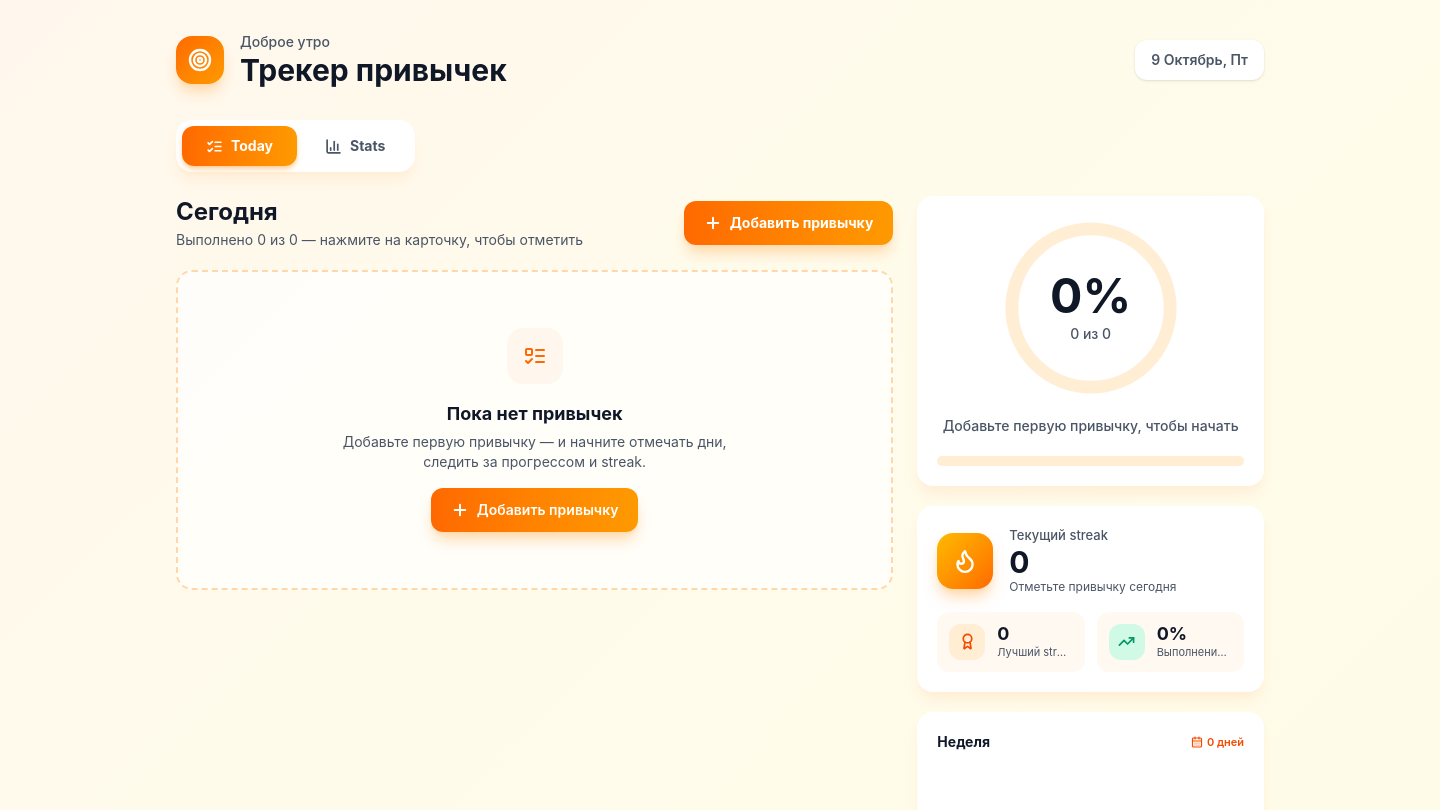
Test case: Today — добавление привычки › можно добавить привычку из пустого состояния
Click the button "Добавить привычку" next to "— нажмите на карточку, чтобы отметить" at (788,223), box [684,201,893,245]
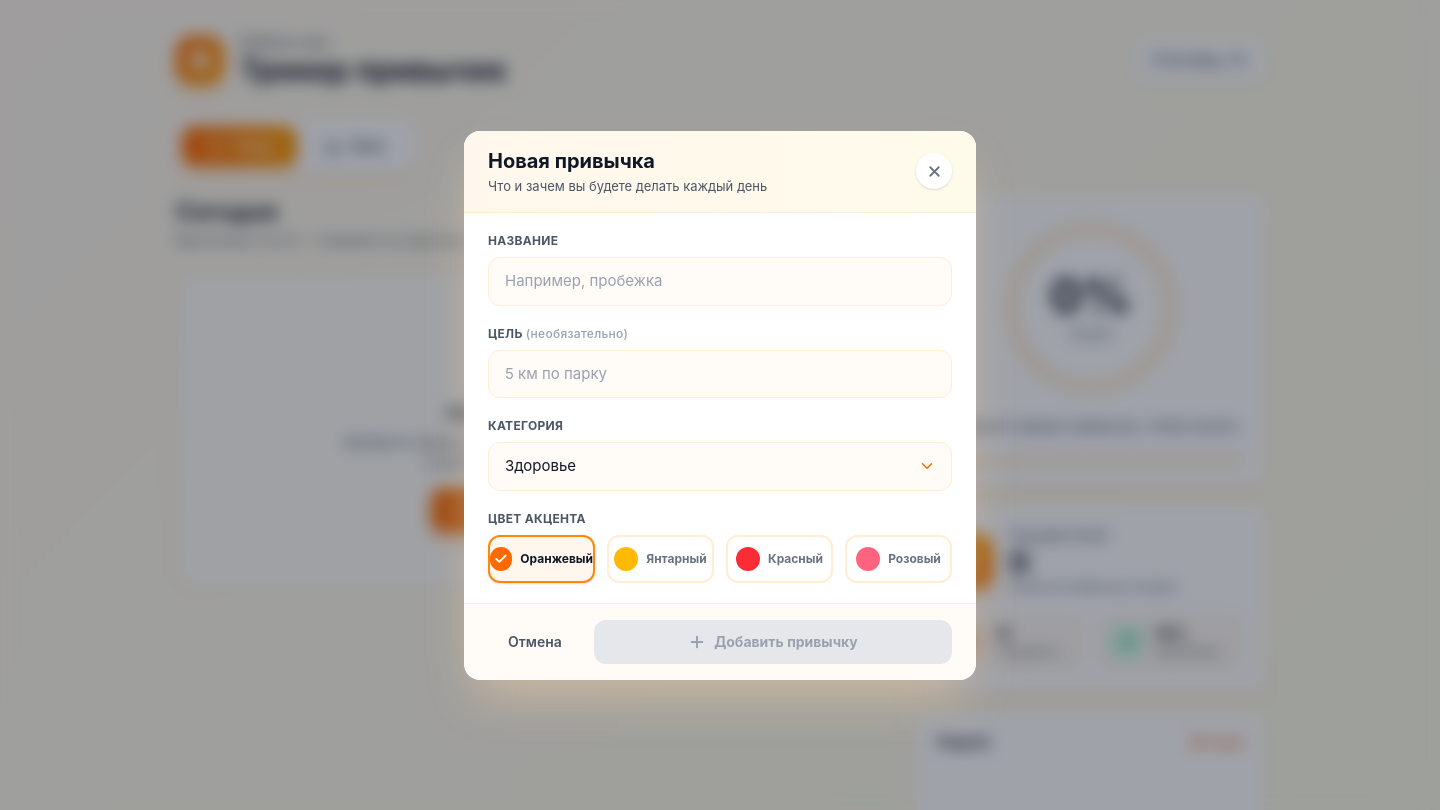
Type "Чтение" into the field with placeholder "Например, пробежка" at (720,281), box [488,257,952,306]
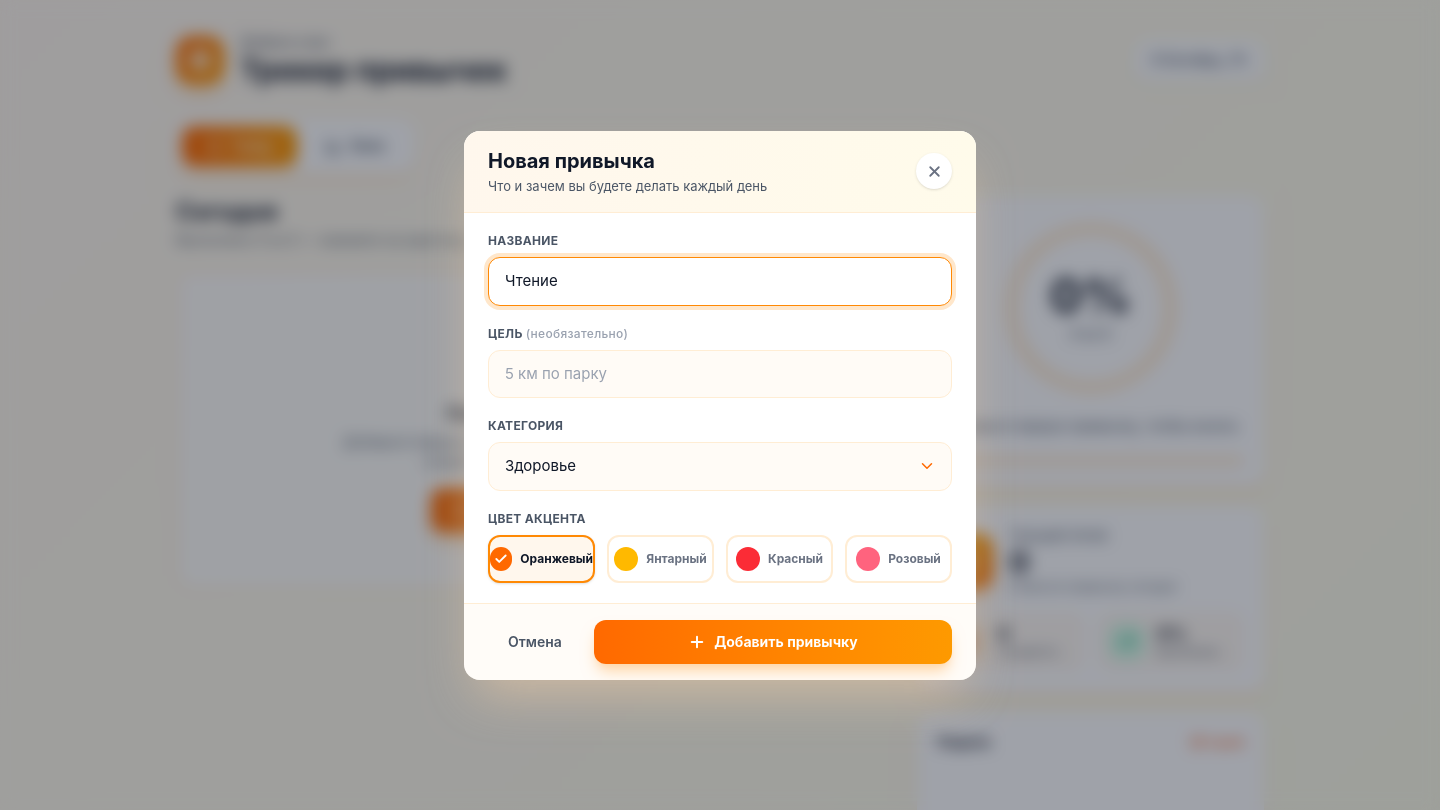
Click the button "Добавить привычку" at (773,642), box [594,620,952,664]
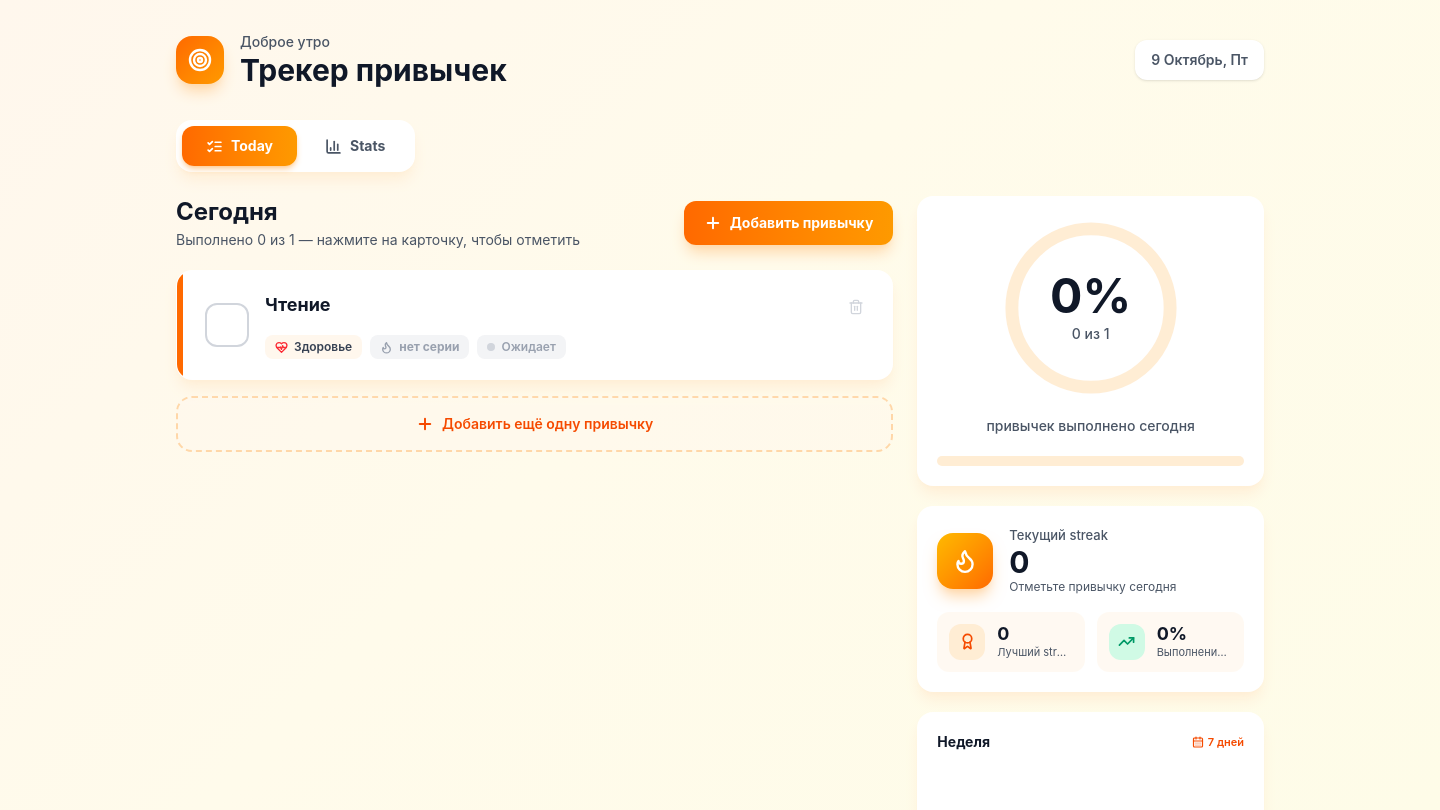
Now the heading "Чтение" is shown, box [265,294,331,315]
